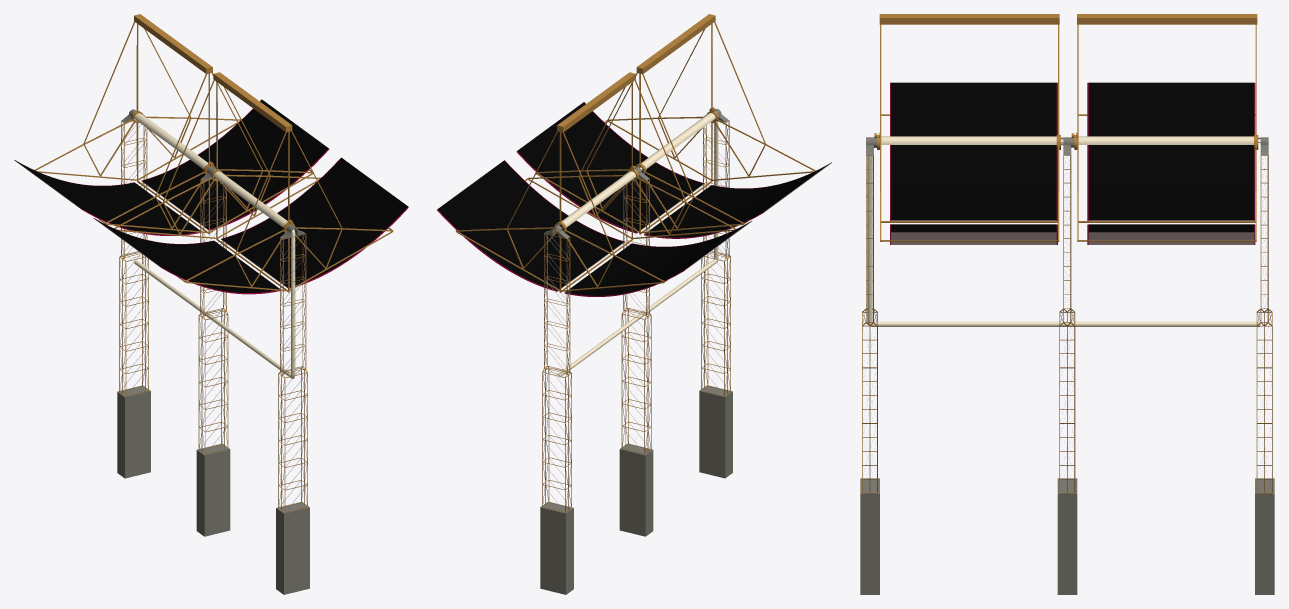
Rendered from Solar_Thermal_Mirror_Set_Side_Circuit.glb.
3 renders of one model, left to right at view 1: azimuth 30°, elevation 25°; view 2: azimuth 150°, elevation 25°; view 3: azimuth 270°, elevation 25°, orthographic. The views are drawn at different scales.
Parts seen in each view (by area): view 1: MirrorFrame_A, MirrorTowerFrame, Foundation; view 2: MirrorFrame_A, MirrorTowerFrame, Foundation; view 3: MirrorFrame_A, MirrorTowerFrame, Foundation.
Boxes of the visible parts, x1,y1,x2,y2 form: MirrorFrame_A: (14, 14, 408, 294); MirrorTowerFrame: (119, 109, 307, 512); Foundation: (117, 385, 309, 594); MirrorFrame_A: (437, 14, 831, 296); MirrorTowerFrame: (542, 109, 730, 512); Foundation: (540, 385, 732, 594); MirrorFrame_A: (874, 14, 1258, 244); MirrorTowerFrame: (862, 137, 1272, 493); Foundation: (860, 478, 1274, 594).
Bounding box in the file's own units: 40.17 × 71.39 × 46.9.
